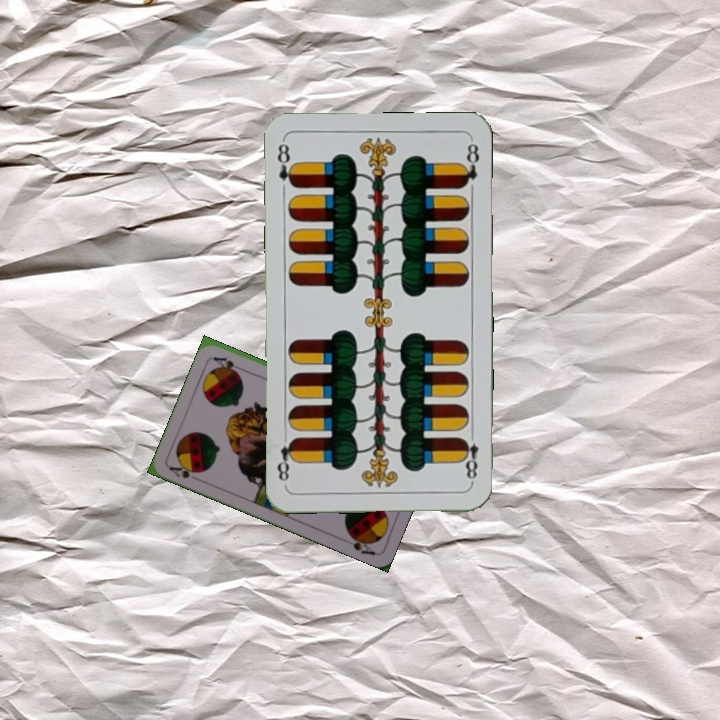E8: (458, 427, 481, 486), (273, 138, 298, 190)
SA: (165, 460, 205, 484)
